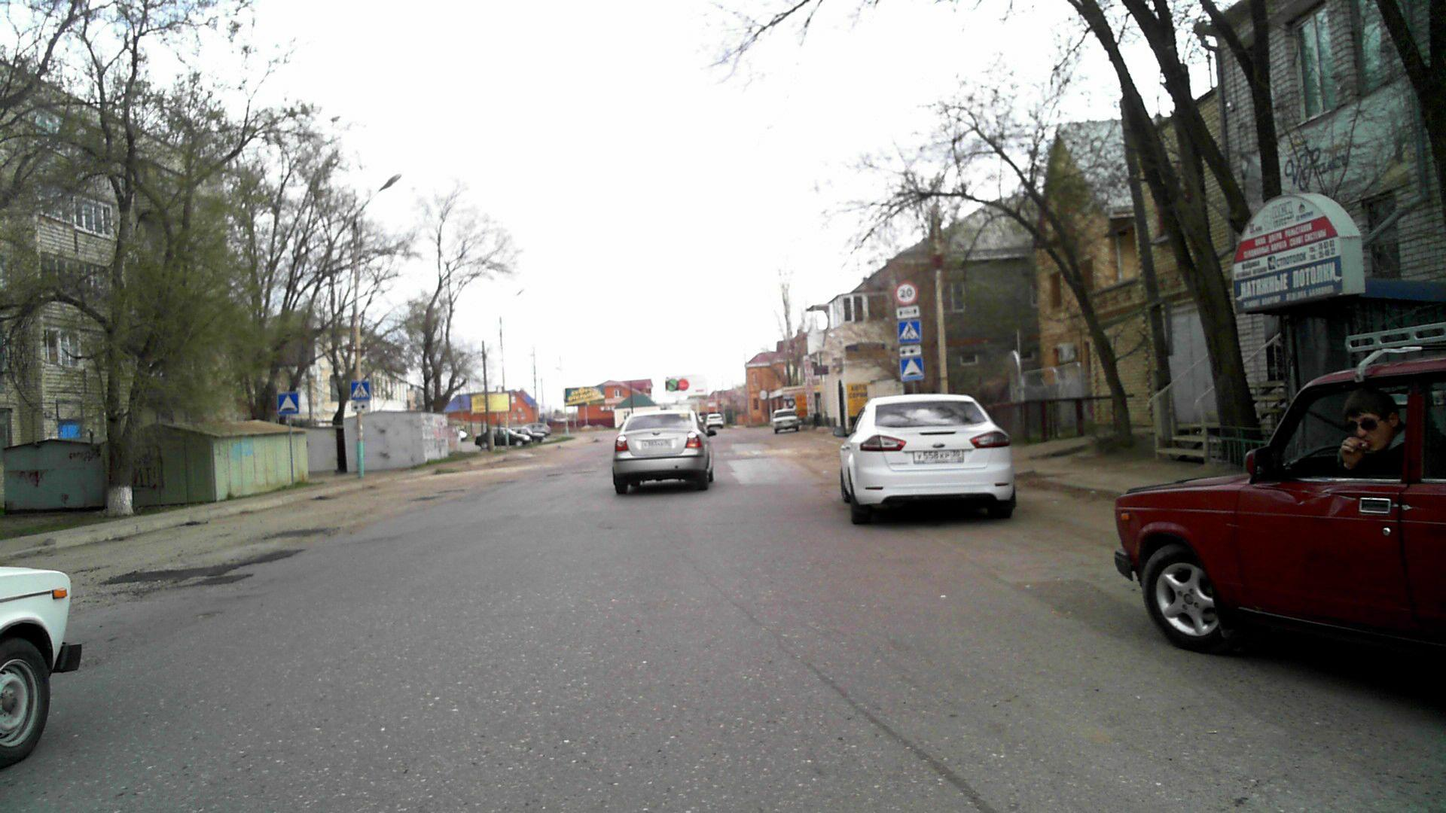road_sign: (894, 281, 918, 306), (900, 356, 924, 381), (898, 319, 921, 344), (278, 392, 299, 416), (351, 380, 370, 400), (896, 305, 920, 318), (899, 345, 921, 356), (351, 401, 370, 411)
